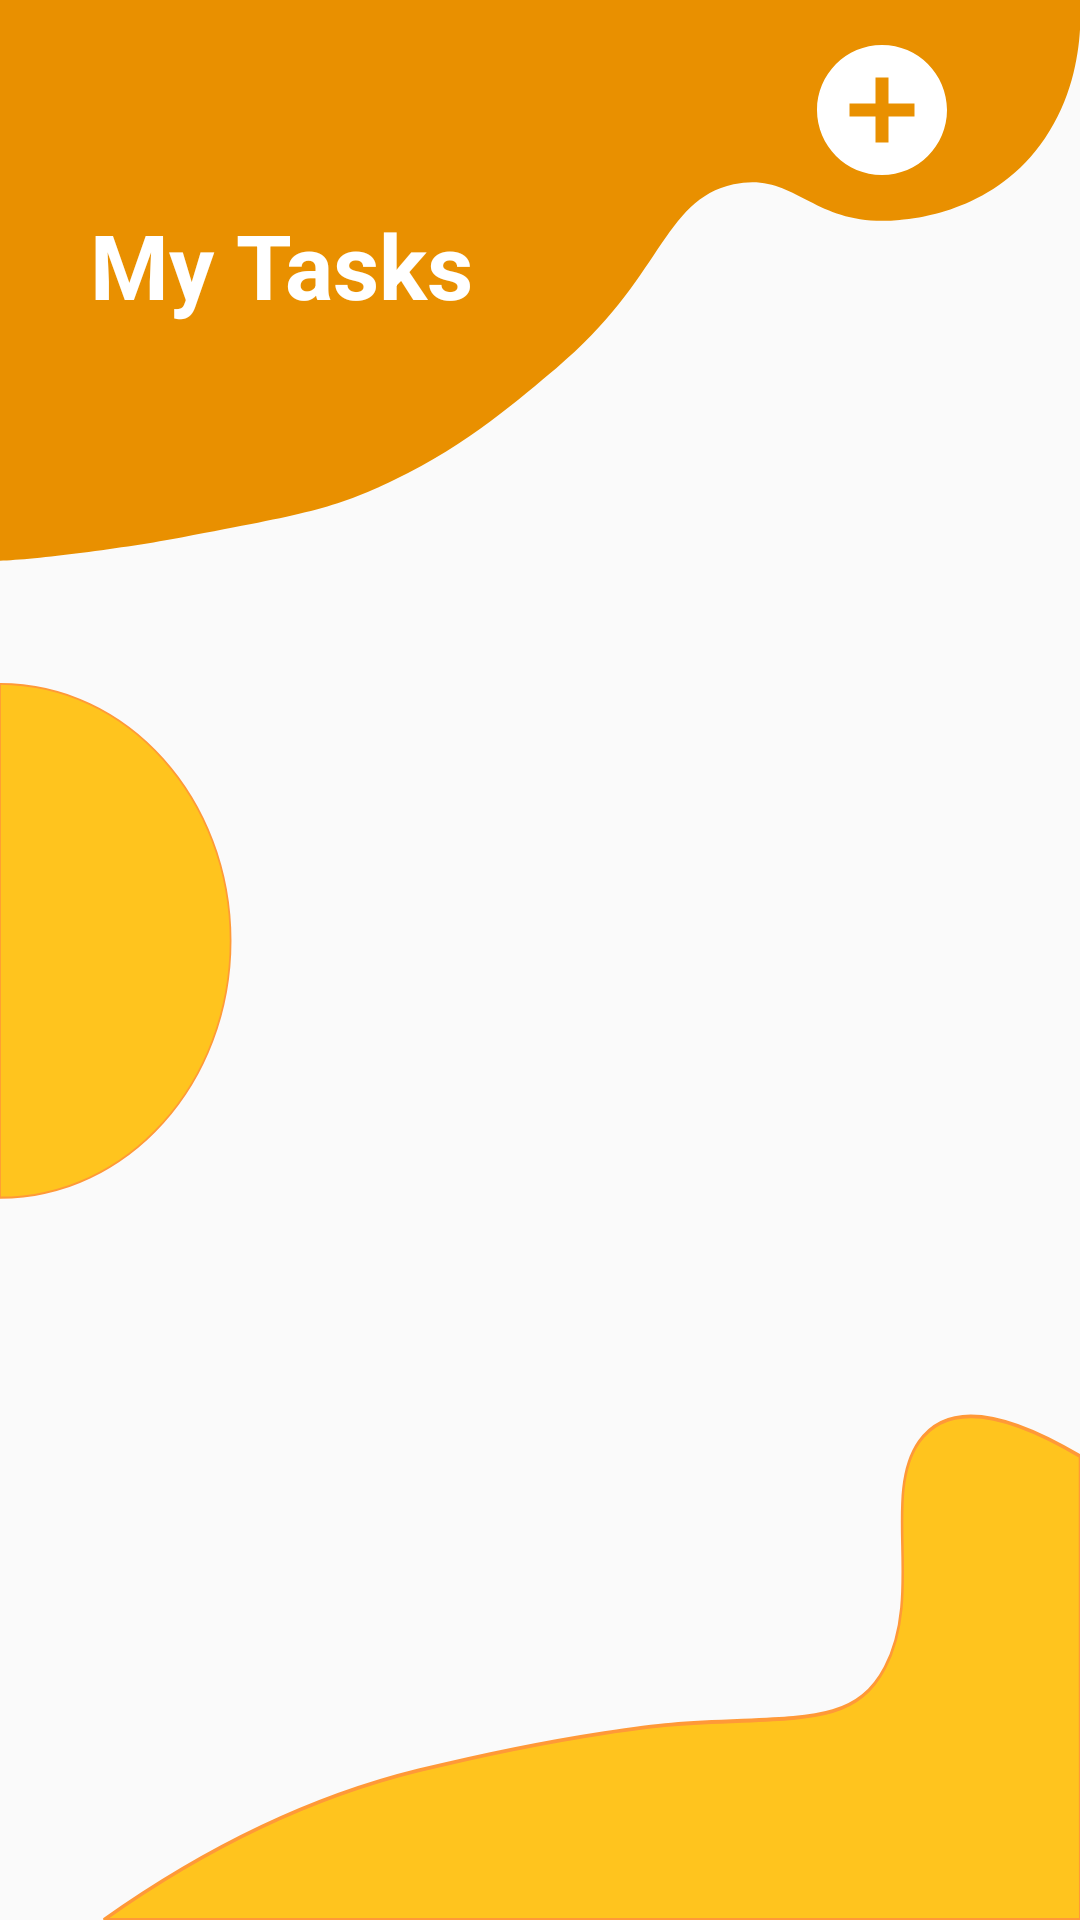

Named icons in this screenshot (1080w x 1920h) and their bounding boxes, (x1, y1, x2, y2):
add: (817, 45, 947, 175)
